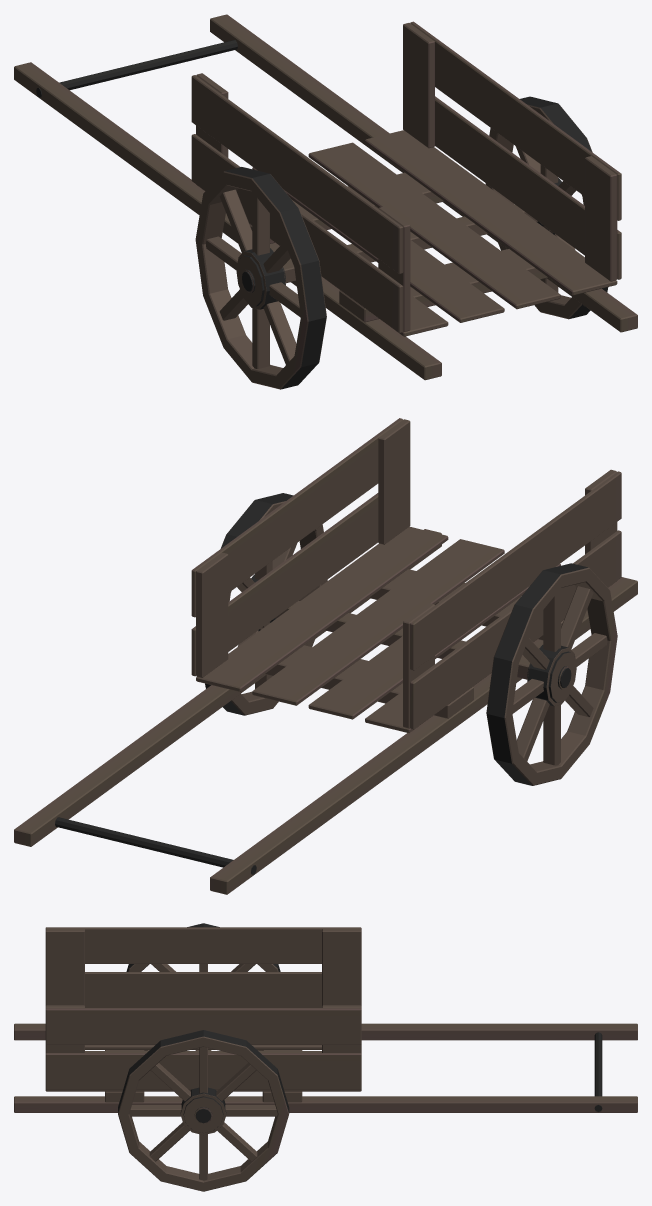
File: cart.fbx
The picture shows the model from 3 angles, top to bottom: view 1: azimuth 30°, elevation 25°; view 2: azimuth 150°, elevation 25°; view 3: azimuth 270°, elevation 25°; orthographic projection. The views are drawn at different scales.
Parts seen in each view (by area): view 1: Cart.001, Wheel_Left, Wheel_Right; view 2: Cart.001, Wheel_Left, Wheel_Right; view 3: Cart.001, Wheel_Right, Wheel_Left.
Part boxes in pixels (x1,y1,x2,y2): Cart.001: [14, 14, 637, 380]; Wheel_Left: [195, 167, 326, 389]; Wheel_Right: [485, 96, 608, 319]; Cart.001: [14, 418, 637, 894]; Wheel_Left: [486, 563, 617, 785]; Wheel_Right: [205, 493, 327, 715]; Cart.001: [14, 927, 637, 1112]; Wheel_Right: [118, 1030, 289, 1191]; Wheel_Left: [126, 923, 280, 1050].
Bounding box in the file's own units: 176 × 117 × 395.
